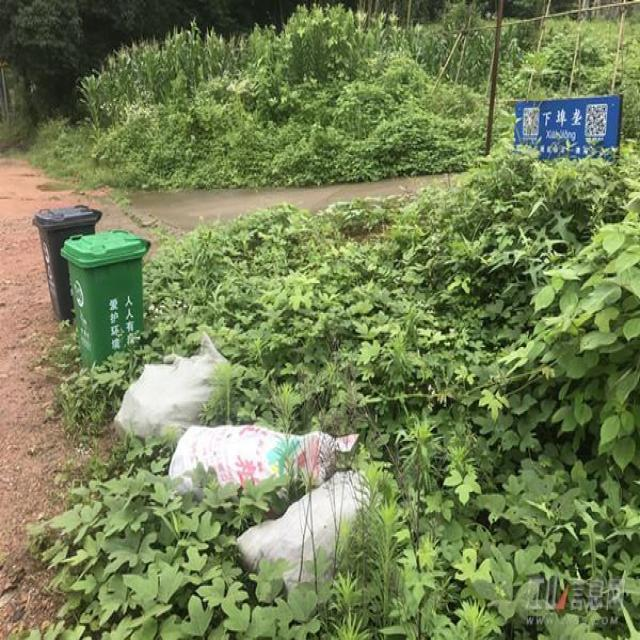garbage: (113, 333, 383, 594)
garbage_bin: (59, 229, 150, 367), (31, 204, 101, 318)
